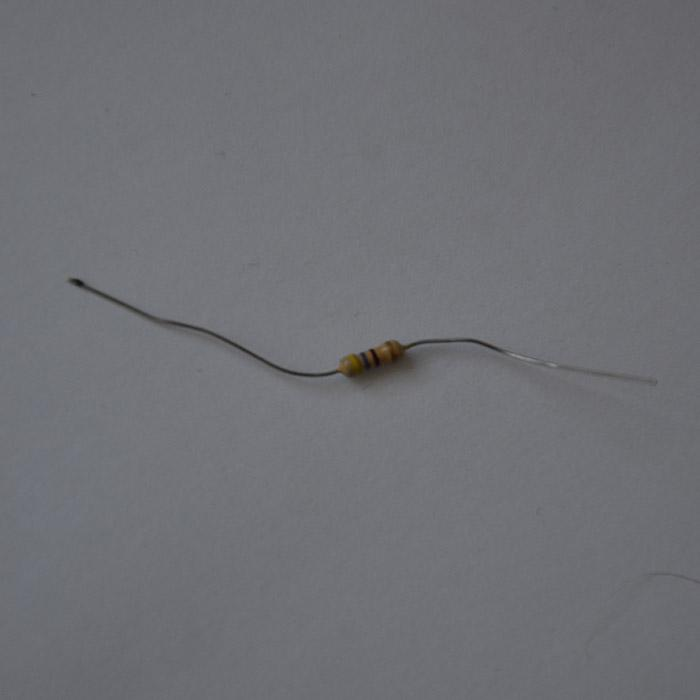resistor: (339, 339, 406, 377)
